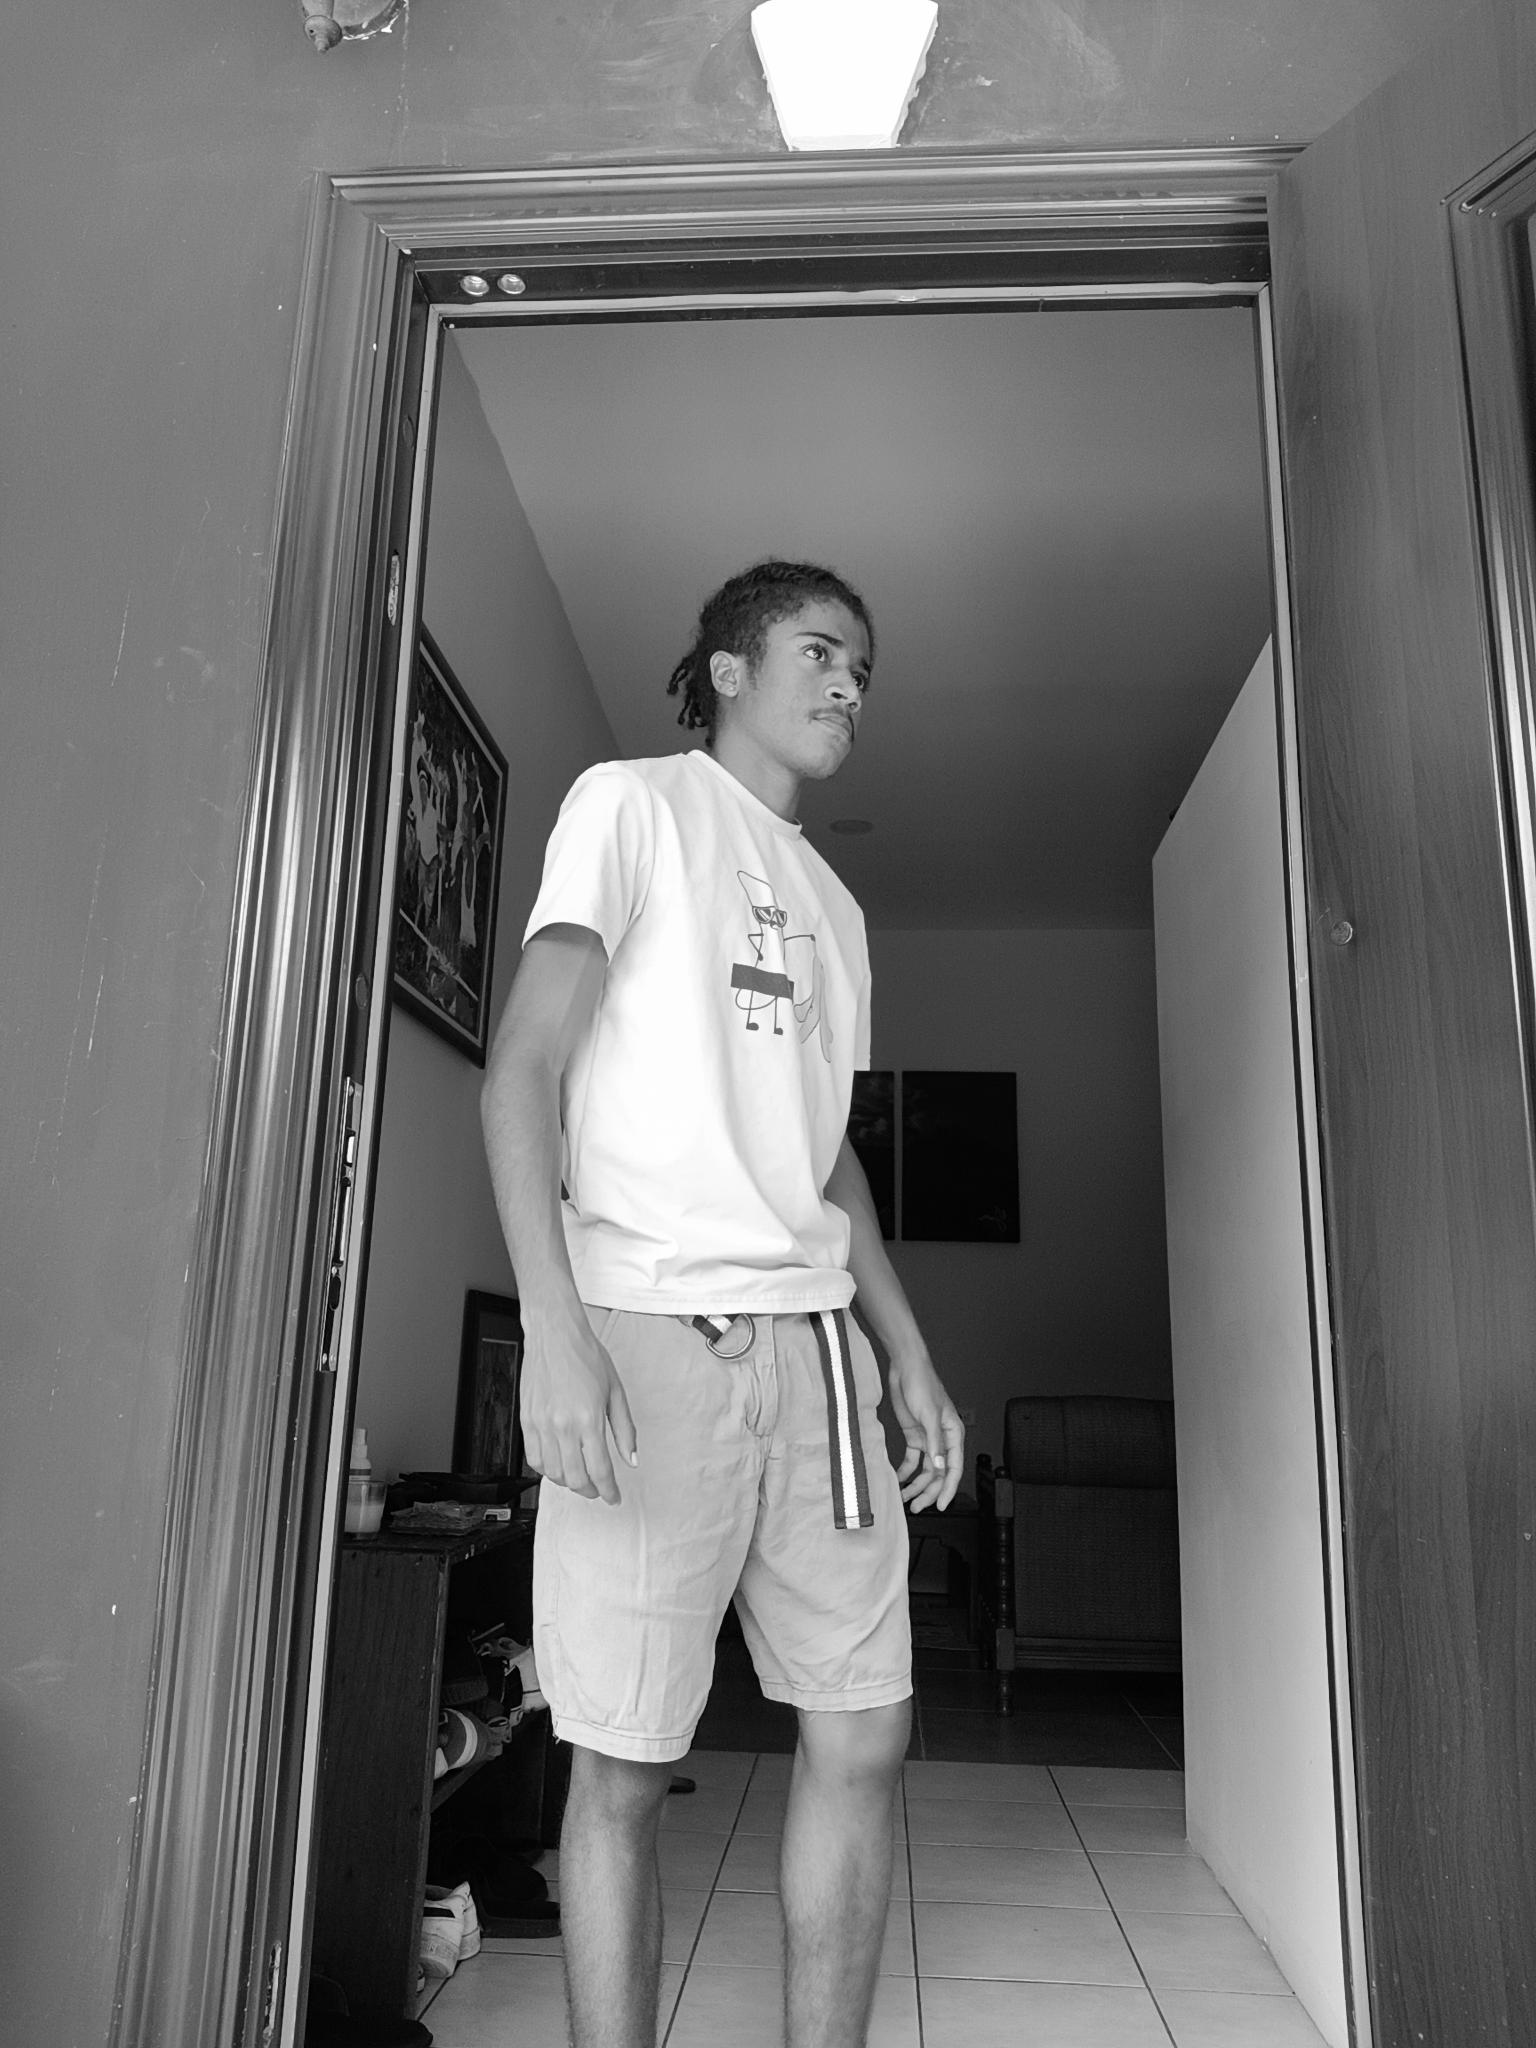front: (473, 553, 973, 2040)
